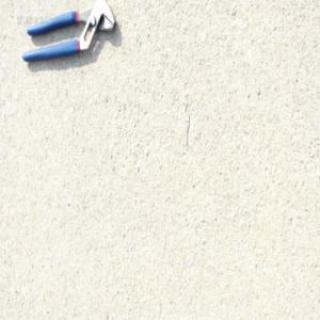Pliertrack_idkeyframe: (20, 1, 117, 62)
